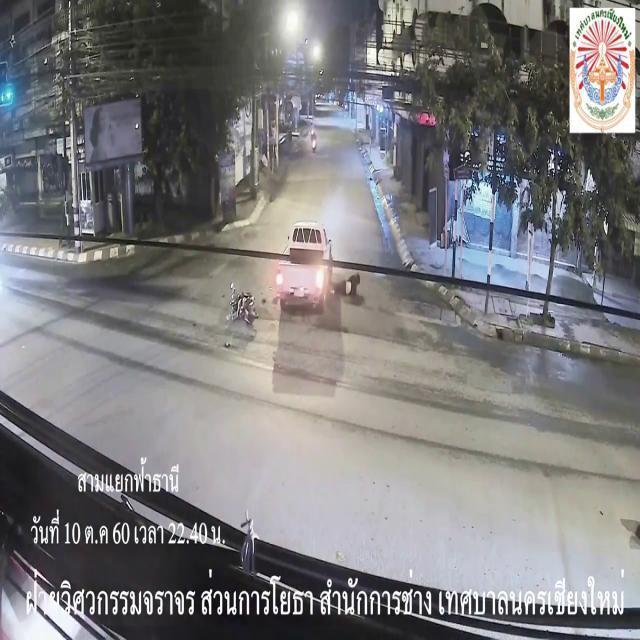accident: (232, 290, 256, 324)
